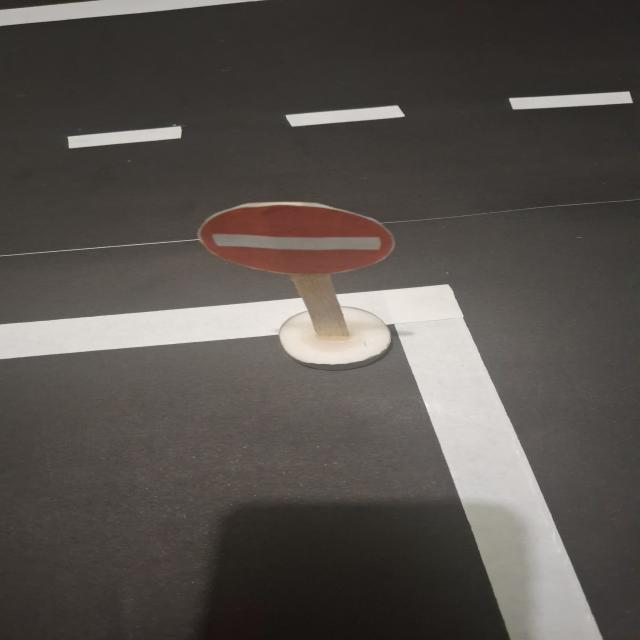Dilarang Masuk: (196, 202, 395, 276)
